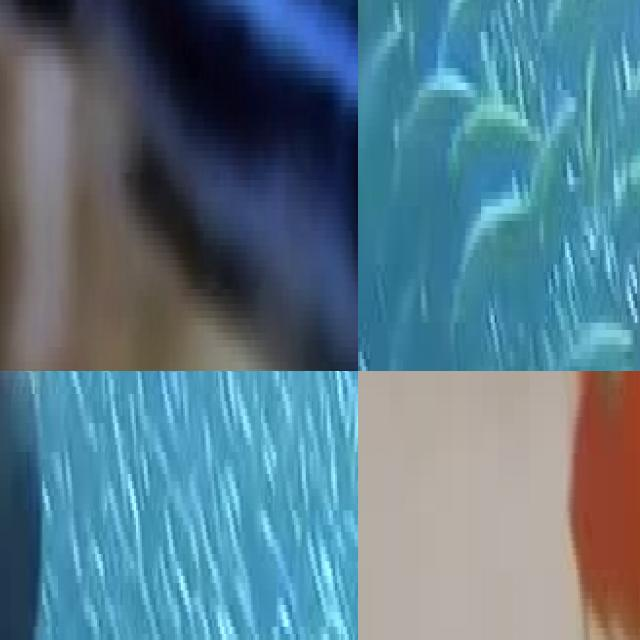fish: (0, 0, 358, 371), (547, 371, 640, 640)
